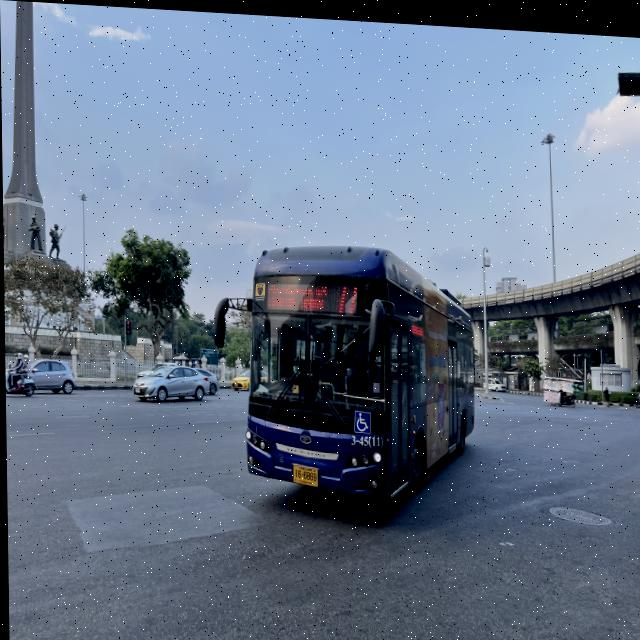Bus Line Number: (333, 272, 362, 317)
Bus Side Number: (345, 428, 383, 447)
Destination Sign: (263, 273, 329, 313)
TSB-Bus: (243, 241, 476, 506)
